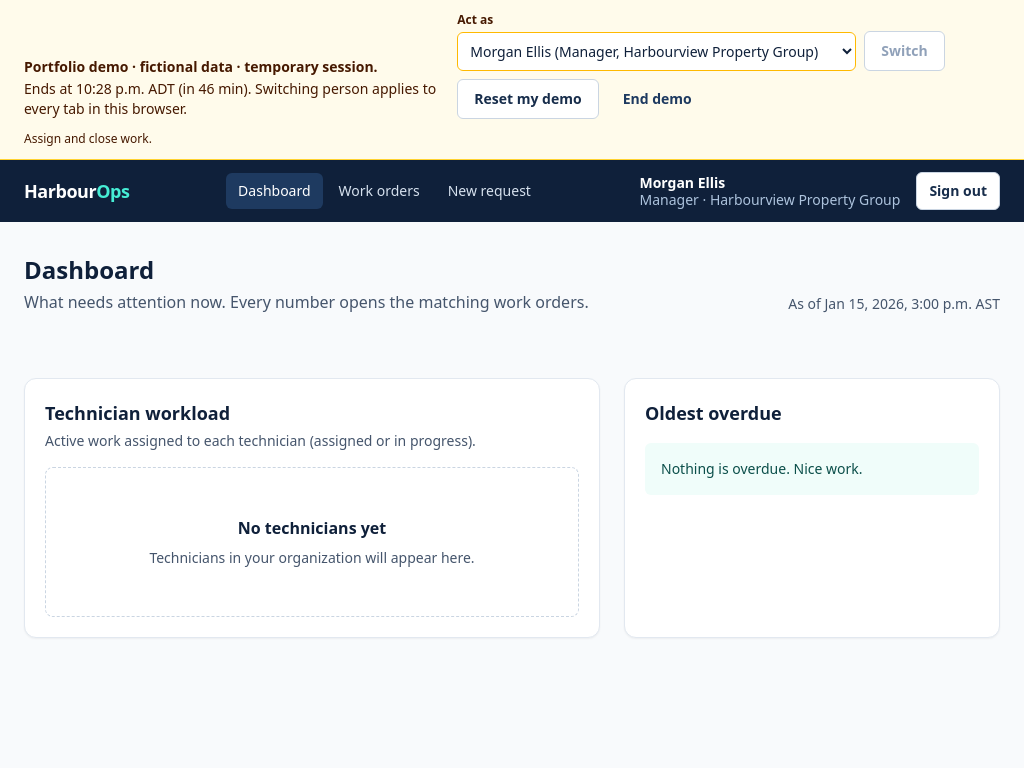
Test: Demo sandboxes › asks before resetting, keeps keyboard focus on the choice, and resets only on confirmation
The image size is (1024, 768).
Click the button "Reset my demo": coordinates (528, 99) [457,79,599,119]
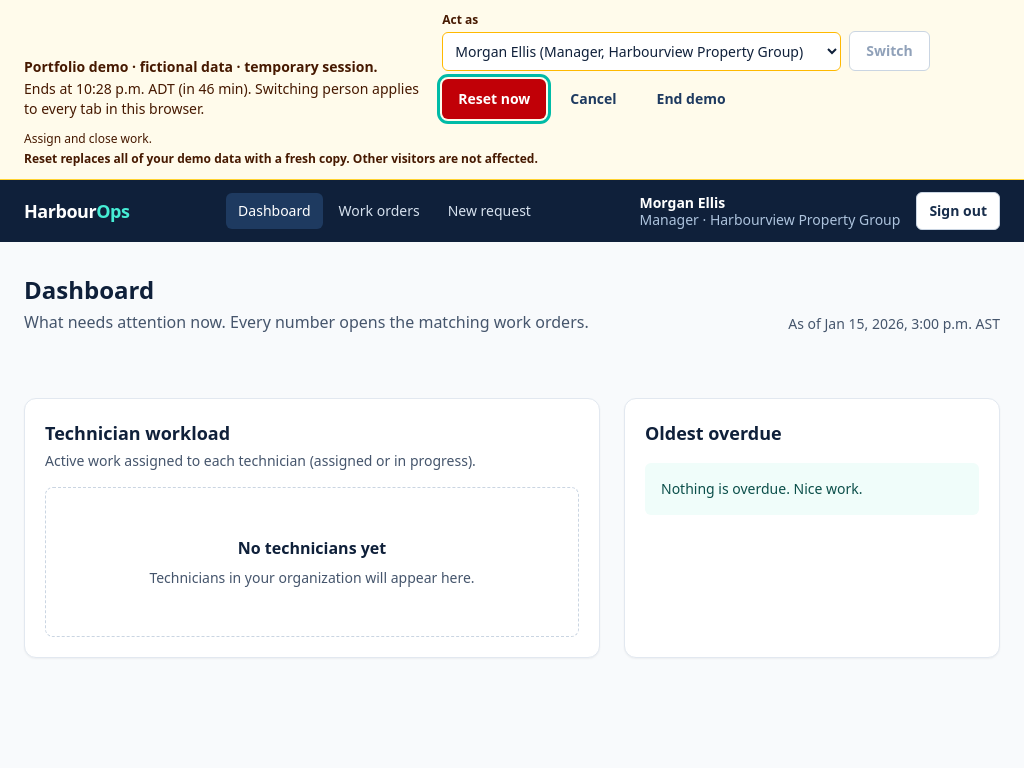
Expected: the element named "Demo session" shows "Reset replaces all of your demo data with a fresh copy.", [24,150,538,167]
Click the button "Cancel": coordinates (593, 99) [554,79,633,119]
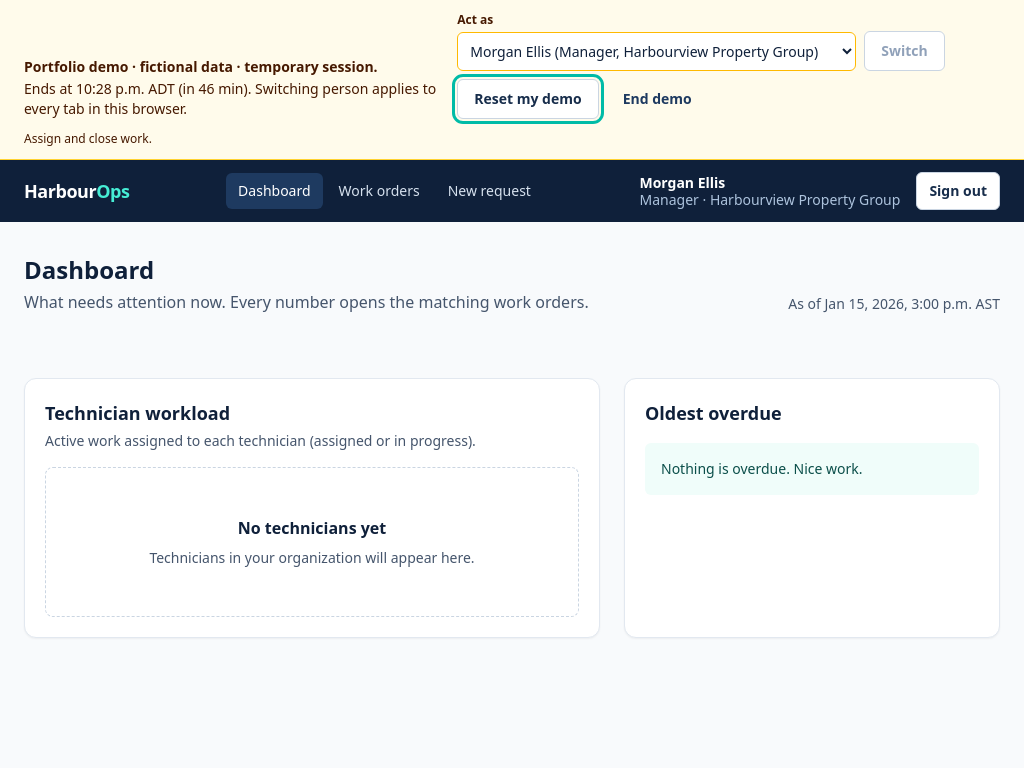
Click the button "Reset my demo": coordinates (528, 99) [457,79,599,119]
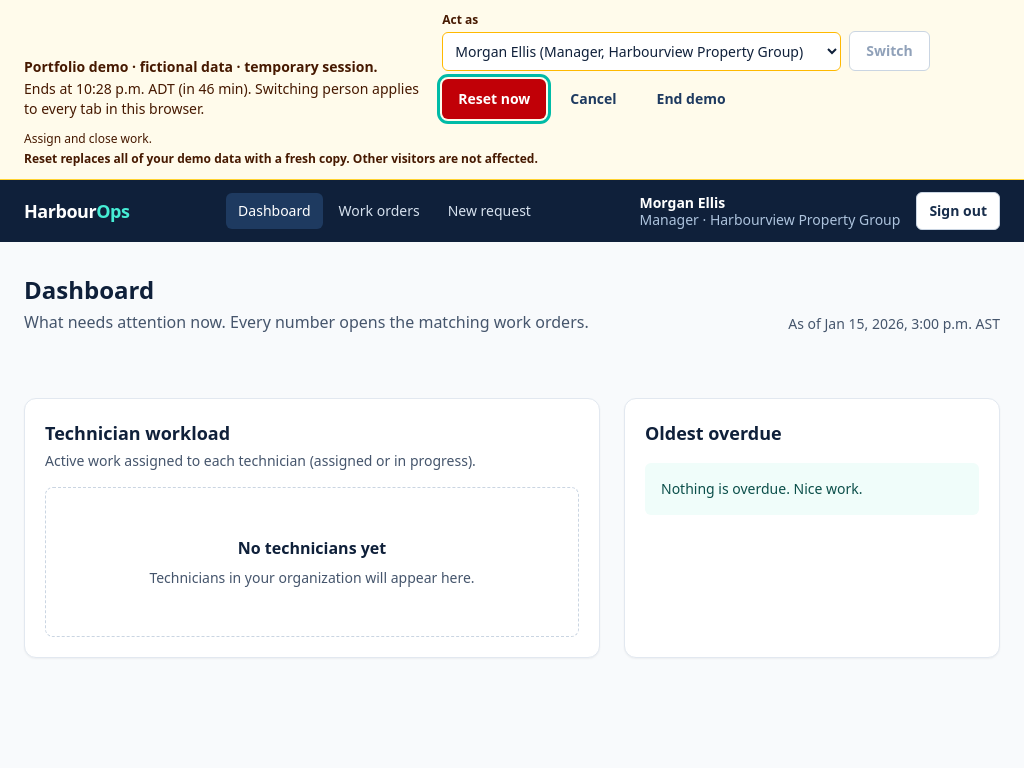
Click the button "Reset now": coordinates (494, 99) [442,79,546,119]
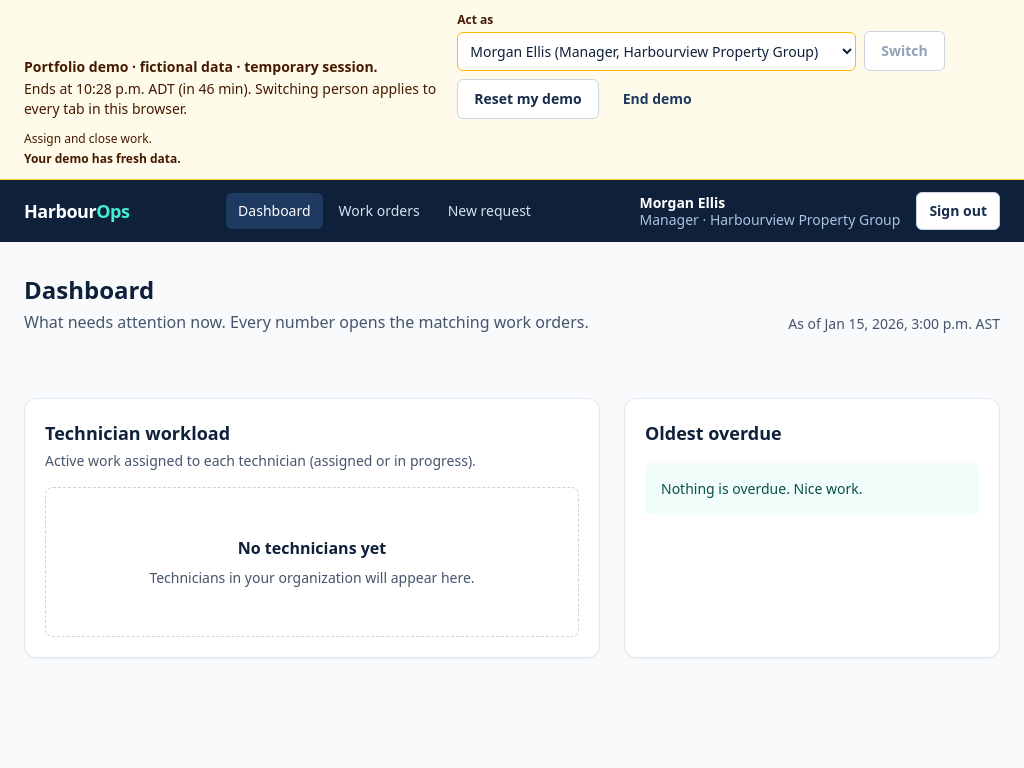
Expected: the message reads "Your demo has fresh data.", [24,150,181,167]
